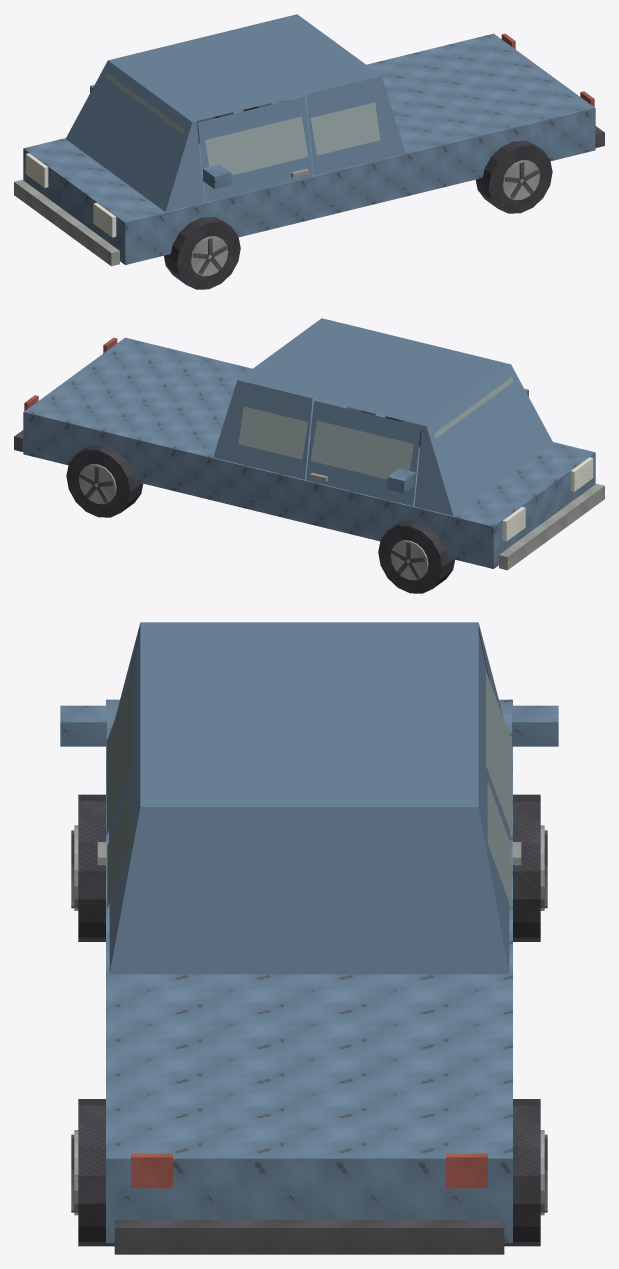
File: vehicle_sedan.glb
The picture shows the model from 3 angles, top to bottom: view 1: azimuth 30°, elevation 25°; view 2: azimuth 150°, elevation 25°; view 3: azimuth 270°, elevation 25°; orthographic projection. The views are drawn at different scales.
Parts seen in each view (by area): view 1: body_panel.001, door_mirror.003, hub.007, hub.005; view 2: body_panel.001, door_mirror.002, hub.006, hub.004; view 3: body_panel.001, door_mirror.002, door_mirror.003, hub.006, hub.007, hub.004, hub.005.
Boxes of the visible parts, bbox=[...] form: body_panel.001: bbox=[14, 14, 604, 266]; door_mirror.003: bbox=[198, 96, 312, 202]; hub.007: bbox=[475, 141, 552, 213]; hub.005: bbox=[164, 217, 240, 289]; body_panel.001: bbox=[14, 318, 604, 570]; door_mirror.002: bbox=[306, 400, 420, 506]; hub.006: bbox=[66, 445, 143, 517]; hub.004: bbox=[378, 521, 454, 593]; body_panel.001: bbox=[106, 622, 512, 1254]; door_mirror.002: bbox=[478, 632, 558, 865]; door_mirror.003: bbox=[60, 632, 140, 865]; hub.006: bbox=[504, 1099, 547, 1246]; hub.007: bbox=[71, 1099, 114, 1246]; hub.004: bbox=[513, 794, 547, 941]; hub.005: bbox=[71, 794, 105, 941].
Bounding box in the file's own units: 4.64 × 1.4 × 2.03.
7 materials, 7 textured.
